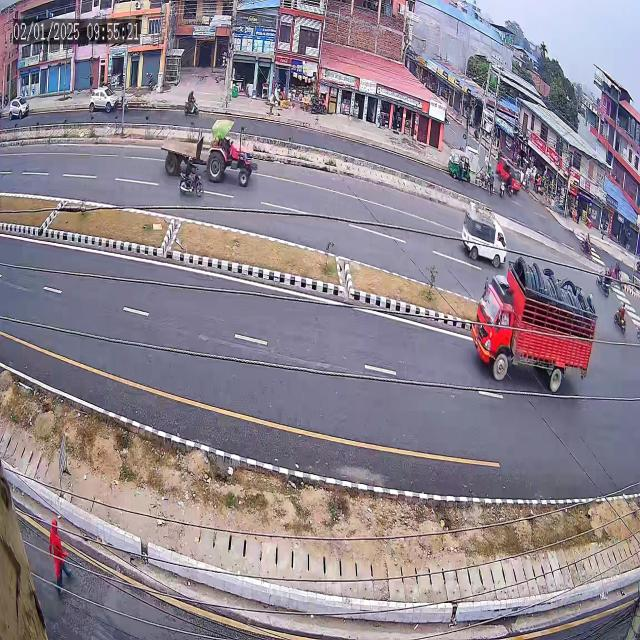motorcycle: (178, 150, 207, 204), (591, 260, 613, 304), (610, 296, 632, 336), (180, 83, 202, 121), (578, 229, 592, 265)
truck: (472, 248, 606, 411), (166, 112, 259, 188)
van: (456, 193, 510, 278), (494, 142, 531, 198)
